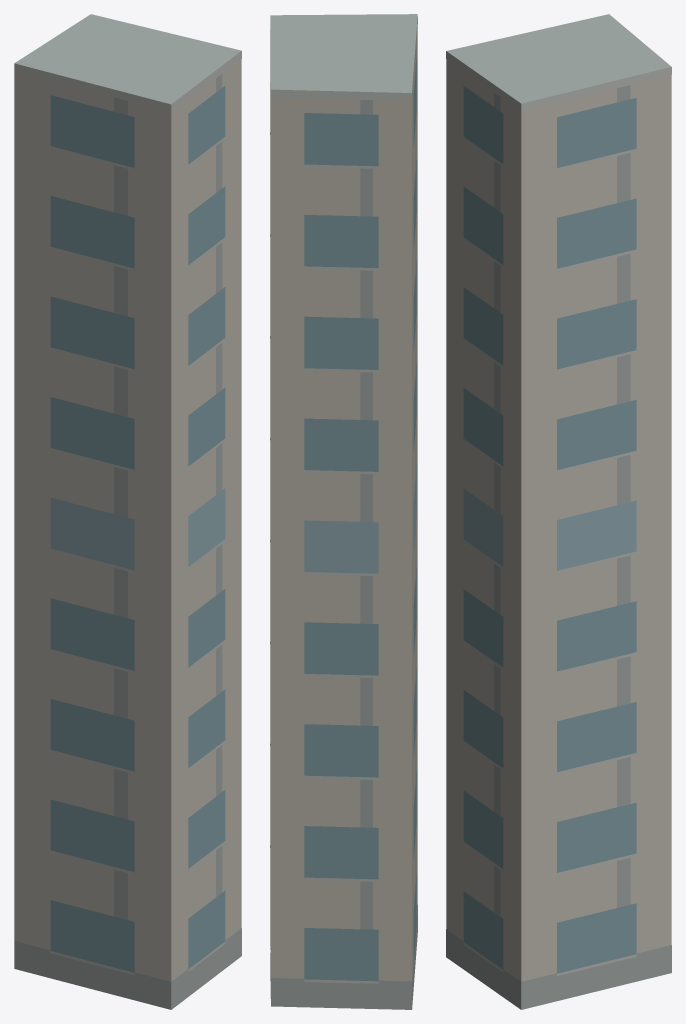
The model's file is survey-upis-32863819.glb.
3 views of the same model, side by side, from view 1: azimuth 30°, elevation 25°; view 2: azimuth 150°, elevation 25°; view 3: azimuth 270°, elevation 25° (orthographic).
Visible parts, largest first — view 1: survey-upis-32863819.tmp; view 2: survey-upis-32863819.tmp; view 3: survey-upis-32863819.tmp.
Boxes of the visible parts, x1=… form: survey-upis-32863819.tmp: x1=14, y1=14, x2=241, y2=1009; survey-upis-32863819.tmp: x1=270, y1=14, x2=417, y2=1009; survey-upis-32863819.tmp: x1=446, y1=14, x2=671, y2=1009.
Bounding box in the file's own units: 5.83 × 27.45 × 6.2.
